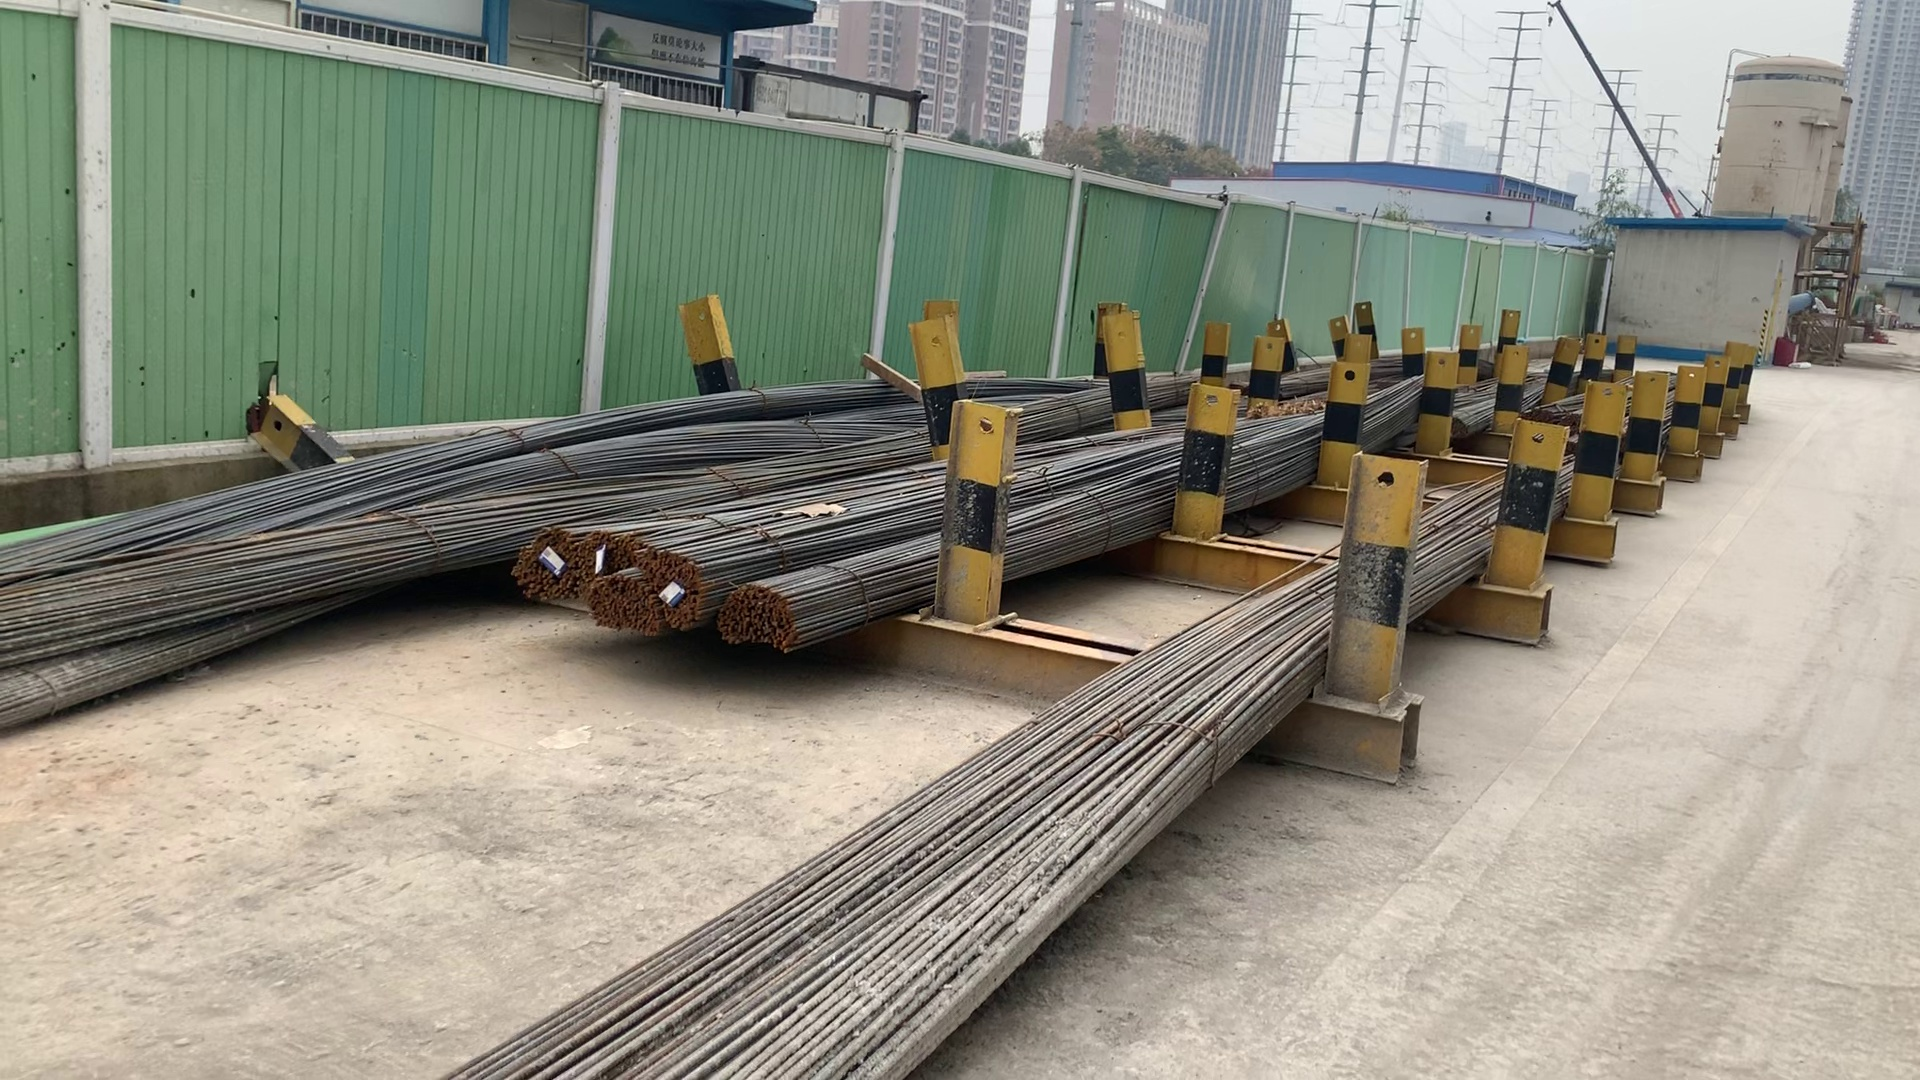rebar: (512, 520, 578, 607), (719, 588, 803, 651), (645, 542, 705, 626), (587, 575, 649, 633), (587, 530, 641, 570)
